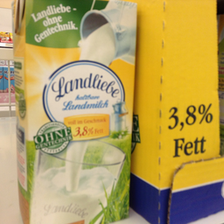milk: (11, 1, 133, 224)
